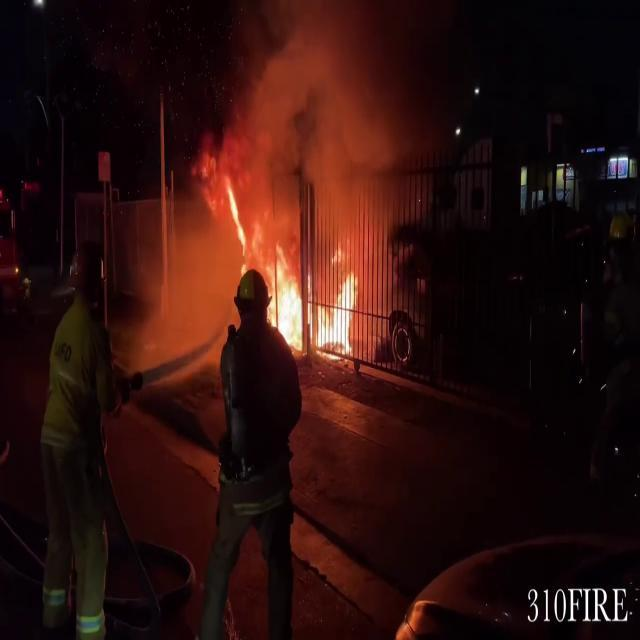Fire: (268, 241, 362, 361)
Smoke: (121, 0, 409, 360)
